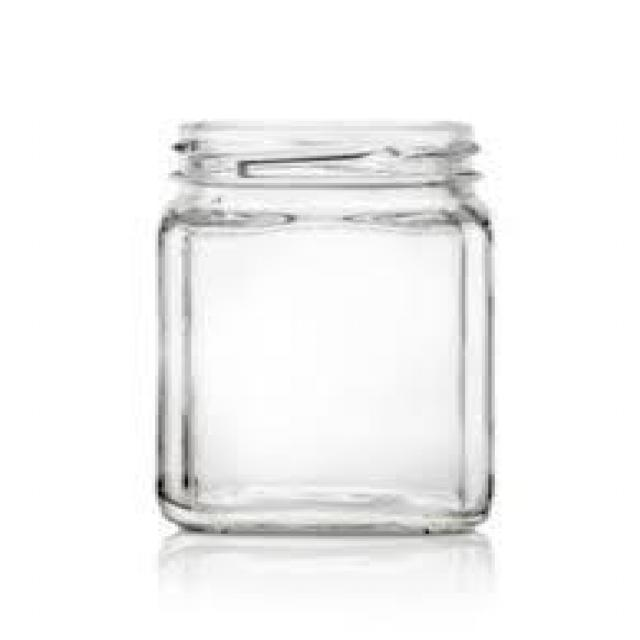non-organic waste: (153, 118, 500, 538)
